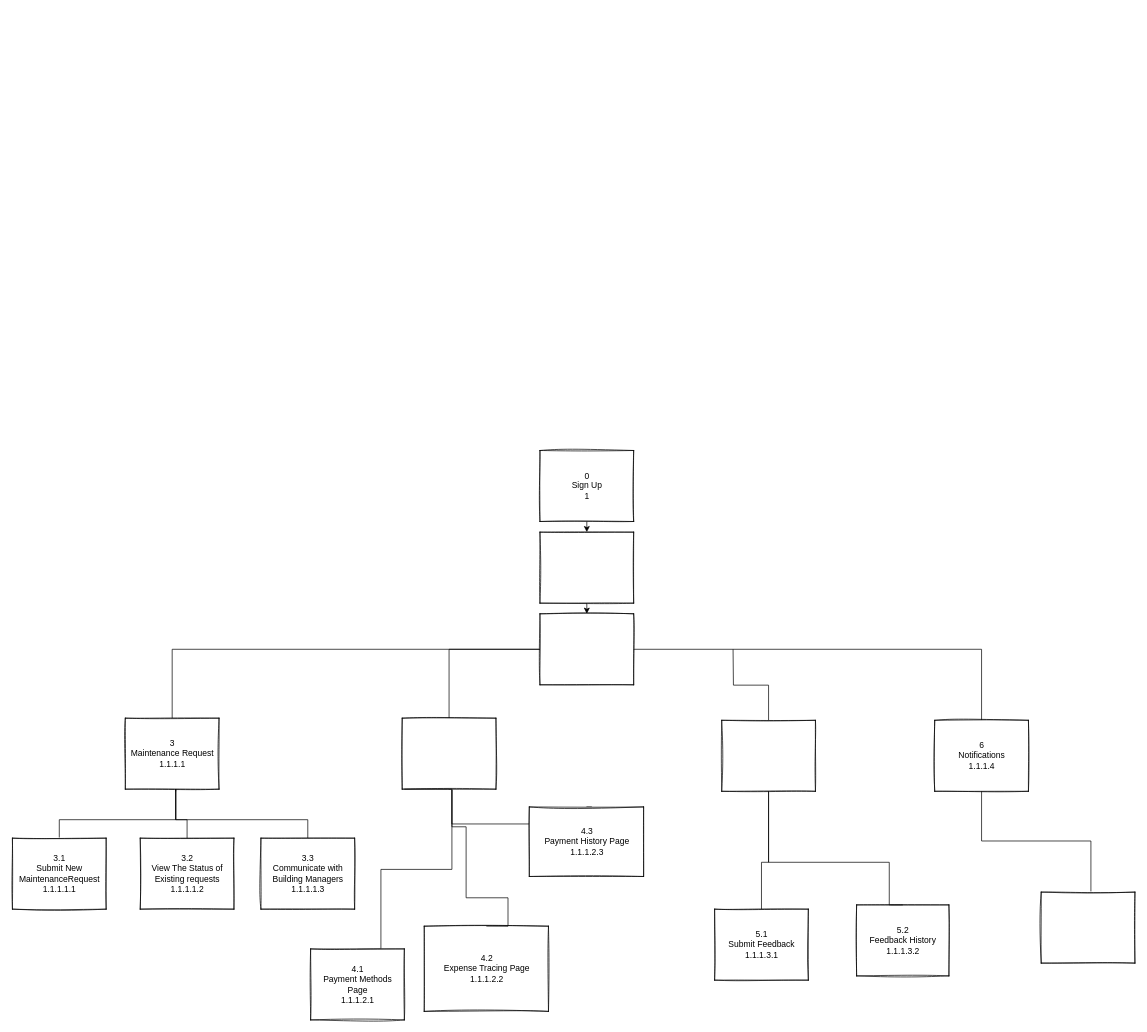
The diagram is 1147 pixels wide and 1032 high, and some of its shapes have lost their labels. The centre of each missing label's shape, as x and y in pixels:
"1 Login 1.1" belongs at [586,567].
"2 Main Page 1.1.1" belongs at [586,649].
"4 Payment 1.1.1.2" belongs at [449,753].
"5 Feedback 1.1.1.3" belongs at [768,755].
"6.1 Notifaction Settings 1.1.1.4.1" belongs at [1088,927].
